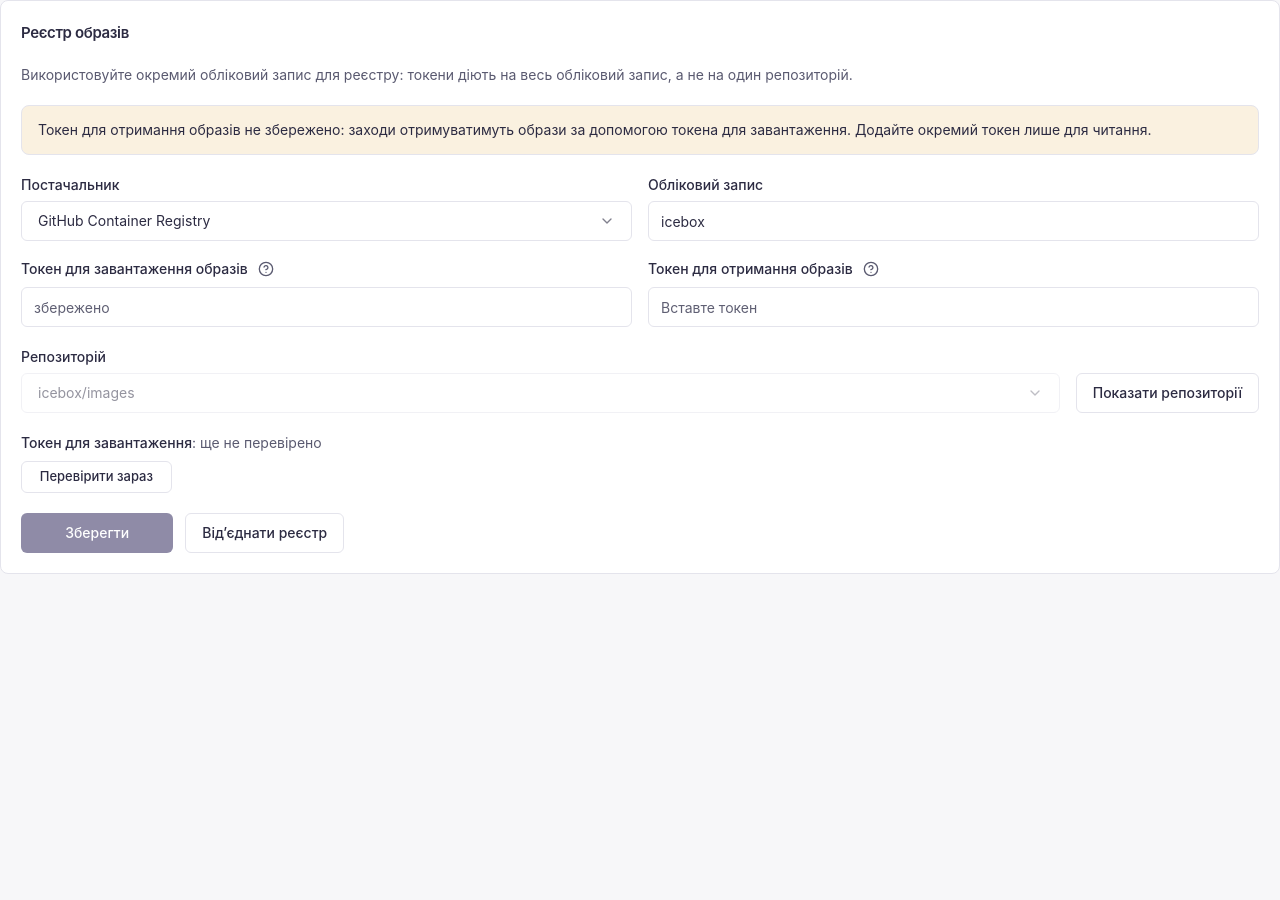
it: ImageRegistryCard › shows the translated registry failure reason inline
The image size is (1280, 900).
In the password field labelled "Токен для завантаження образів": (326, 307) [21, 287, 632, 327], type "bad"
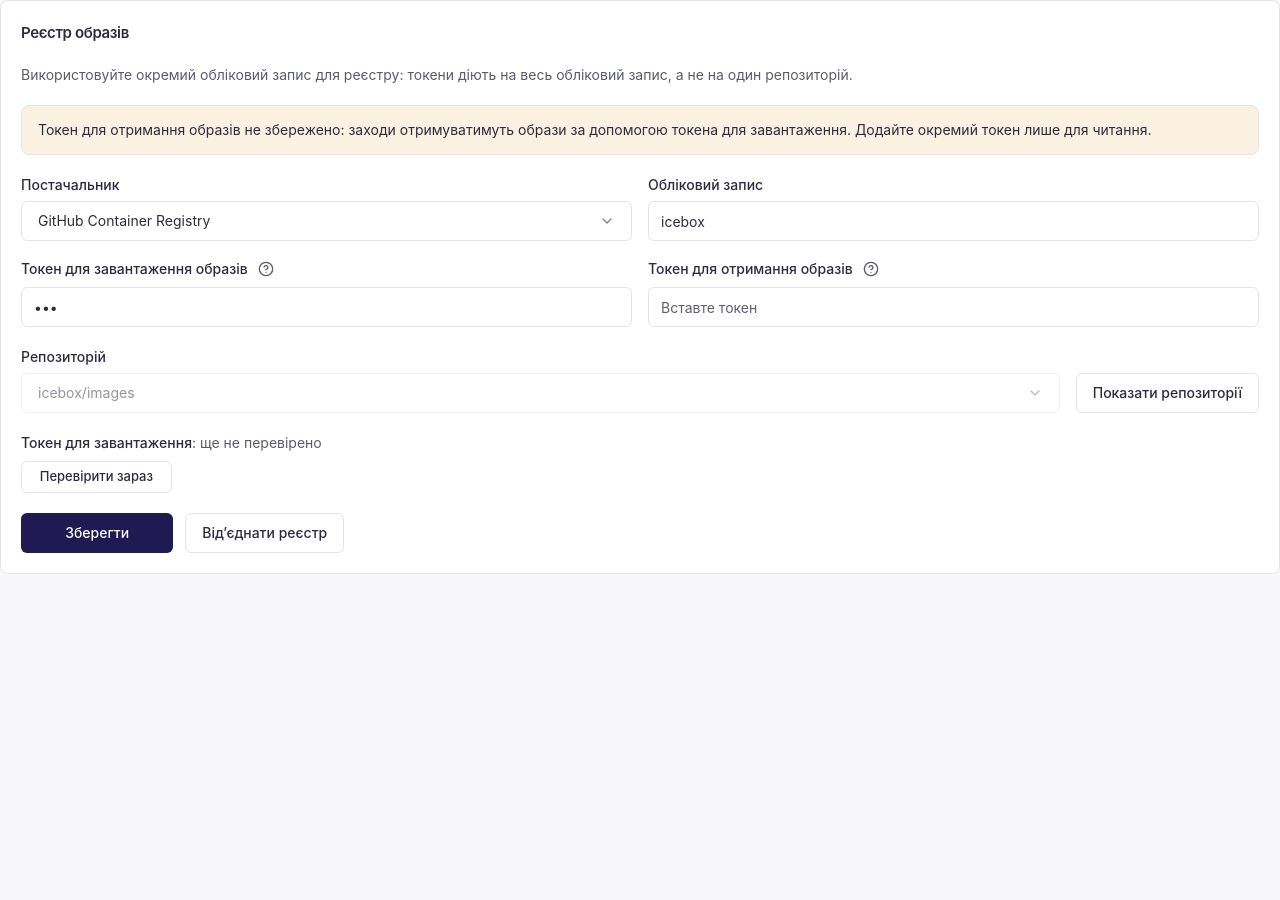
Click the button "Зберегти": (97, 533) [21, 513, 173, 553]
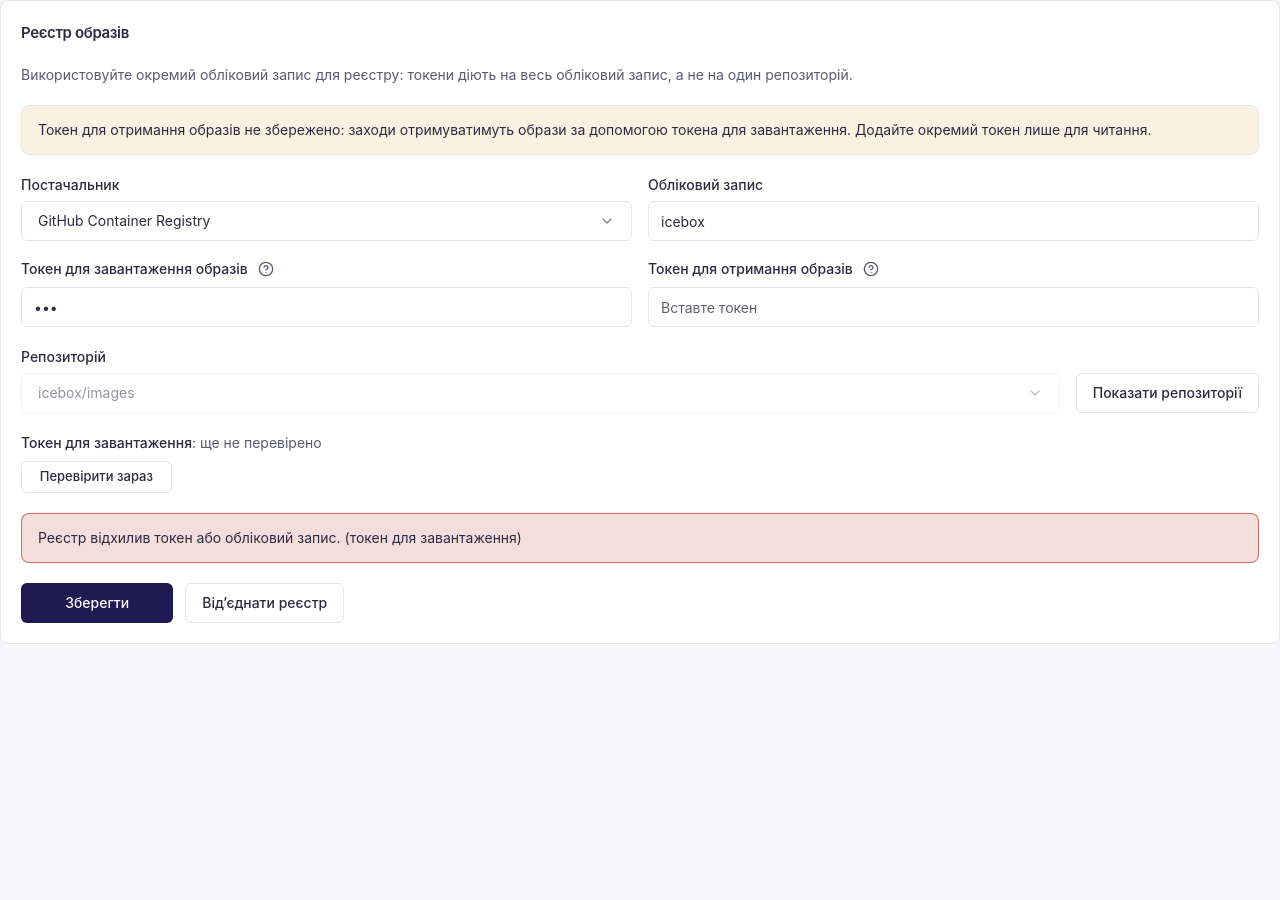
Result: the text "Реєстр відхилив токен або обліковий запис. (токен для завантаження)" is shown at [21, 513, 1259, 563]
